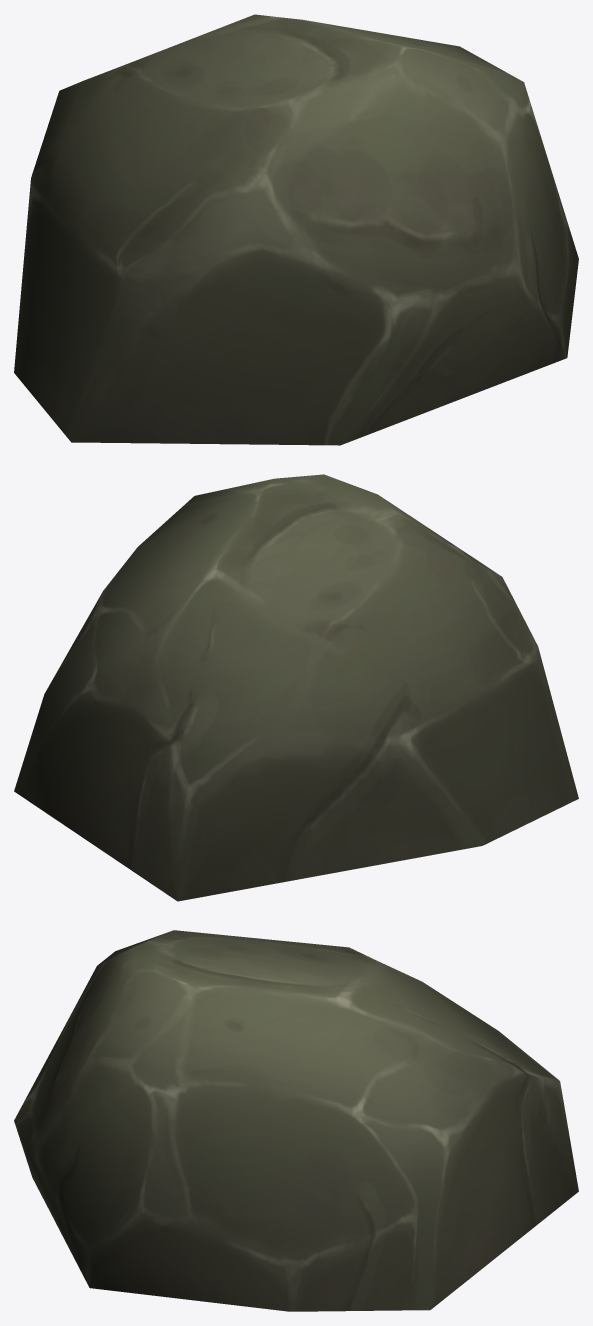
File: Rock_1.FBX
3 renders of one model, top to bottom at view 1: azimuth 30°, elevation 25°; view 2: azimuth 150°, elevation 25°; view 3: azimuth 270°, elevation 25°, orthographic. The views are drawn at different scales.
Parts seen in each view (by area): view 1: Rock_1; view 2: Rock_1; view 3: Rock_1.
Part boxes in pixels (x1=…): Rock_1: x1=14, y1=14, x2=578, y2=445; Rock_1: x1=14, y1=474, x2=578, y2=901; Rock_1: x1=14, y1=930, x2=578, y2=1311.
Size of the model in its own units: 671 by 374 by 733.
